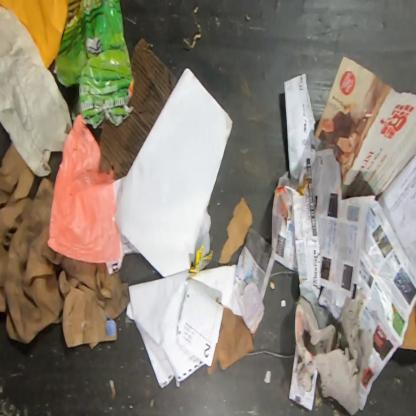cardboard: (98, 37, 178, 180), (206, 308, 255, 374), (218, 197, 254, 265), (398, 299, 415, 351)
soft_plastic: (49, 112, 123, 272)
